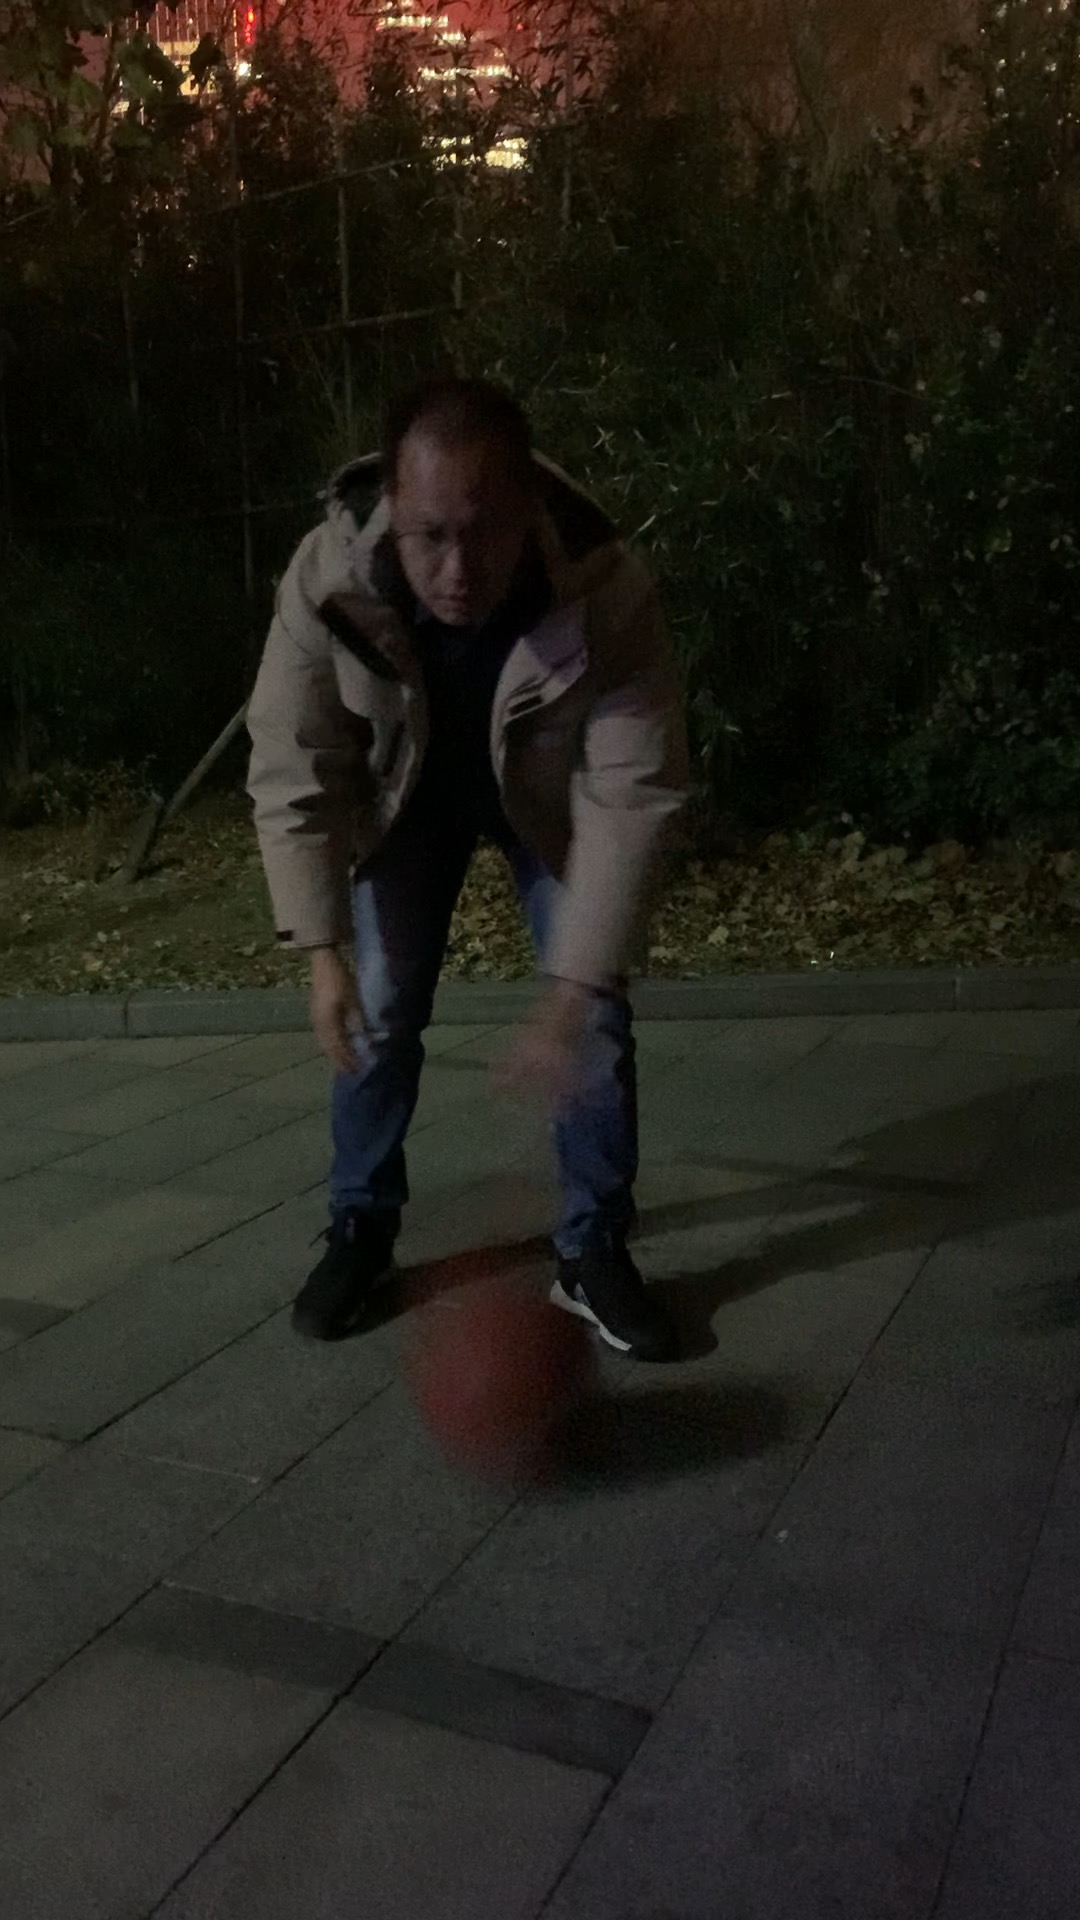ball: (413, 1286, 613, 1486)
